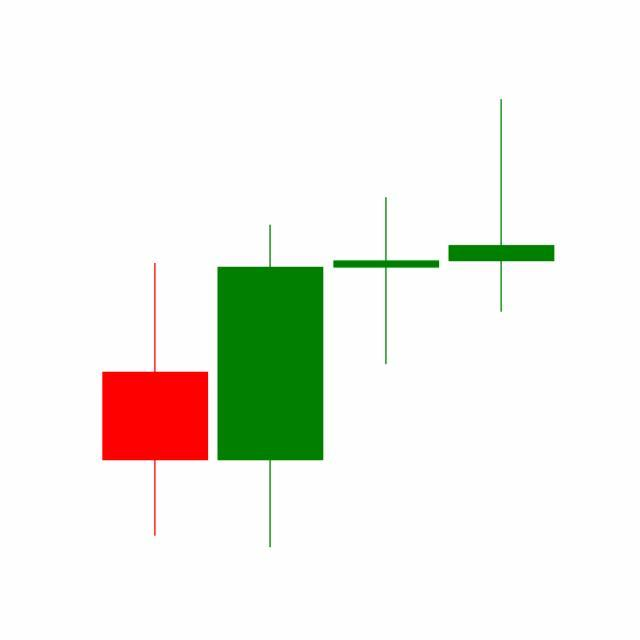Spinning Top: (329, 196, 445, 367)
